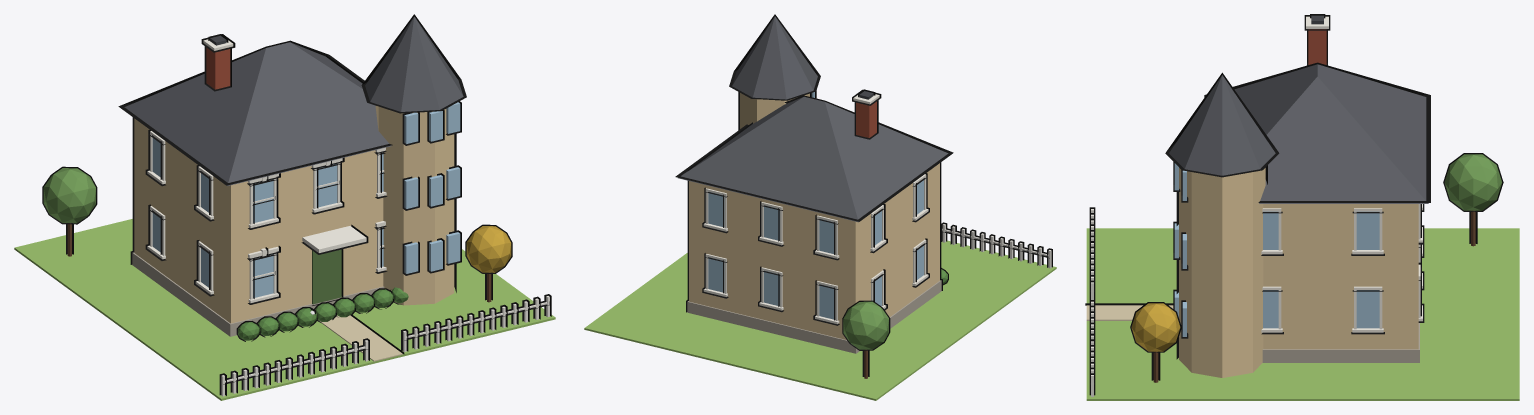
File: Konut_villa_2.fbx
3 renders of one model, left to right at view 1: azimuth 30°, elevation 25°; view 2: azimuth 150°, elevation 25°; view 3: azimuth 270°, elevation 25°, orthographic. The views are drawn at different scales.
Visible parts, largest first — view 1: Konut_villa_2; view 2: Konut_villa_2; view 3: Konut_villa_2.
Boxes of the visible parts, bbox=[...] form: Konut_villa_2: bbox=[14, 14, 555, 400]; Konut_villa_2: bbox=[584, 14, 1056, 400]; Konut_villa_2: bbox=[1085, 14, 1519, 400].
Size of the model in its own units: 14 by 11.07 by 15.05.
